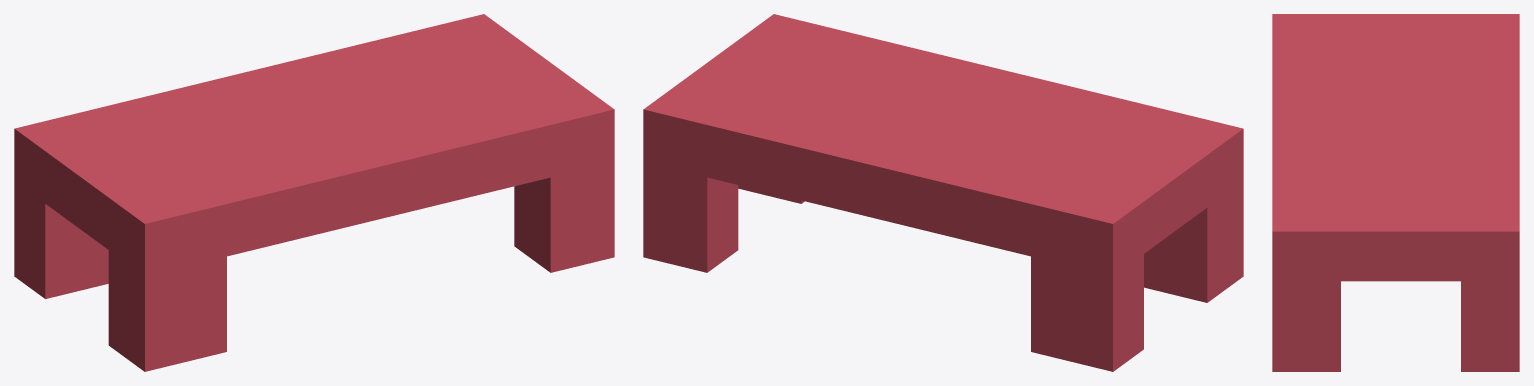
File: Glorious Allis.glb
3 views of the same model, side by side, from view 1: azimuth 30°, elevation 25°; view 2: azimuth 150°, elevation 25°; view 3: azimuth 270°, elevation 25° (orthographic). The views are drawn at different scales.
Visible parts, largest first — view 1: Mesh_Mesh_head_geo.001_lambert2SG.001; view 2: Mesh_Mesh_head_geo.001_lambert2SG.001; view 3: Mesh_Mesh_head_geo.001_lambert2SG.001.
Boxes of the visible parts, x1=… form: Mesh_Mesh_head_geo.001_lambert2SG.001: x1=14, y1=14, x2=614, y2=371; Mesh_Mesh_head_geo.001_lambert2SG.001: x1=643, y1=14, x2=1243, y2=371; Mesh_Mesh_head_geo.001_lambert2SG.001: x1=1272, y1=14, x2=1519, y2=371.
Bounding box in the file's own units: 103 × 31 × 49.52.
